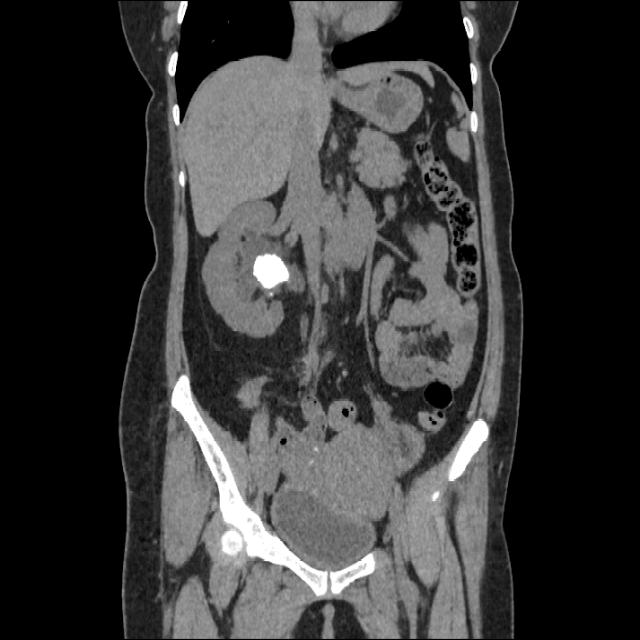kidney: (200, 202, 301, 340)
stone: (253, 252, 290, 288), (267, 292, 277, 298)
